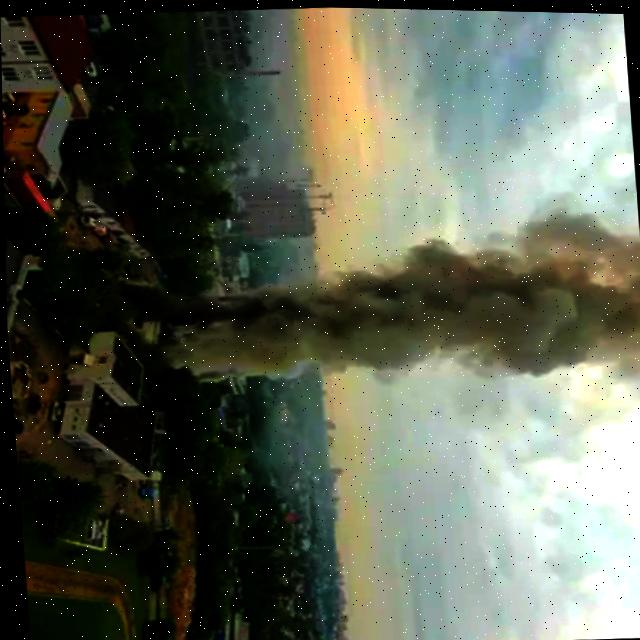Smoke: (150, 192, 640, 423)
